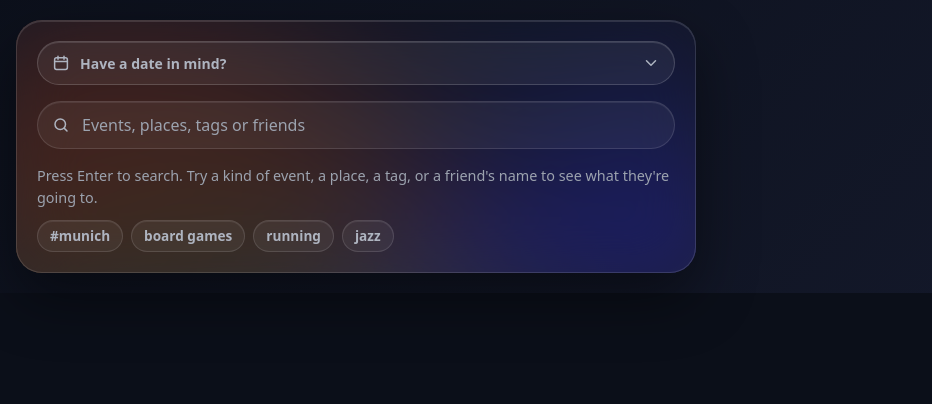
Test: typing does not search until Enter is pressed
Check: the text "Press Enter to search" is shown, box [37,166,669,207]
Type "jazz" into the search field named "Search events" at (373, 125), box [80,112,666,138]
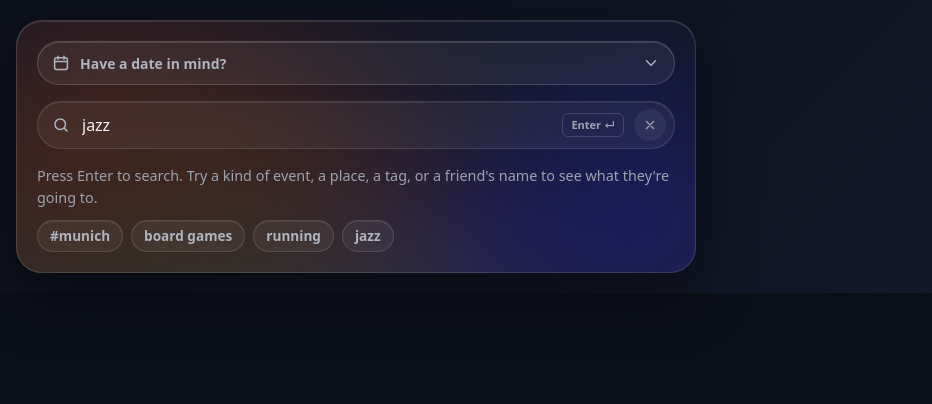
Check: the text "Enter ↵" is shown, box [562,113,624,137]
Submit the form from the search field named "Search events", box [80,112,552,138]
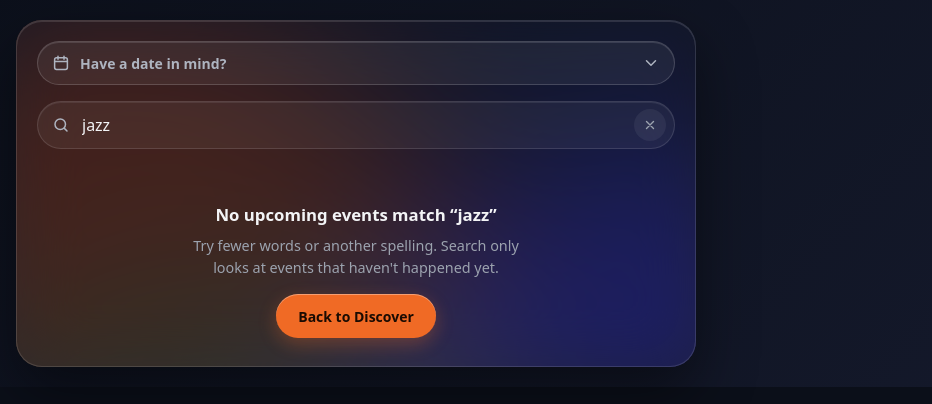
Check: the heading "No upcoming events match “jazz”" is shown, box [215,205,497,225]
